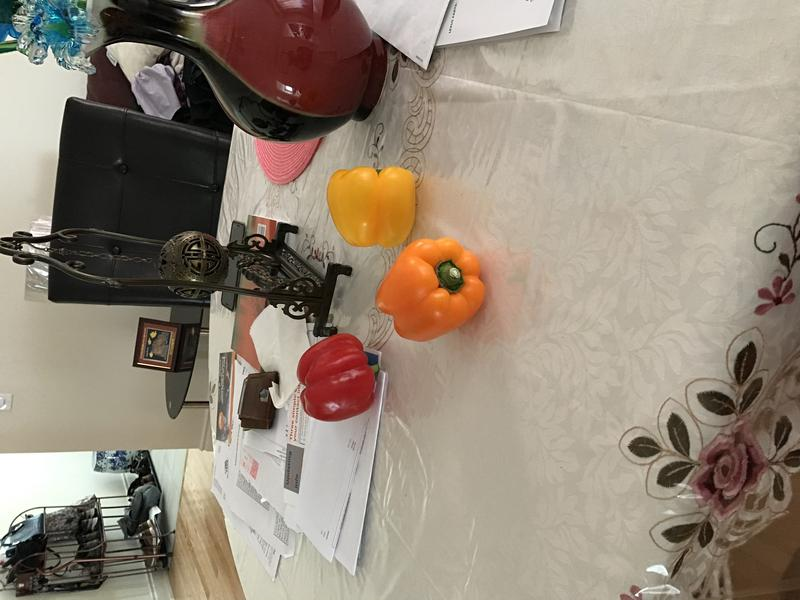orange_pepper: (371, 233, 497, 352)
red_pepper: (291, 323, 385, 434)
yellow_pepper: (319, 158, 425, 252)
